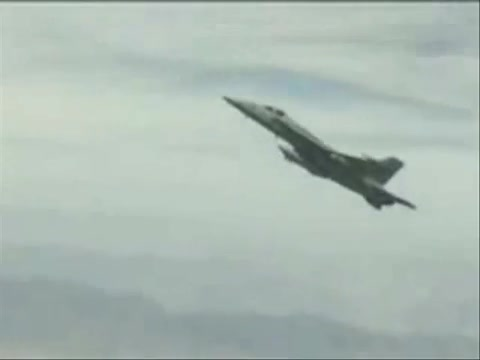aeroplane: (224, 96, 418, 212)
